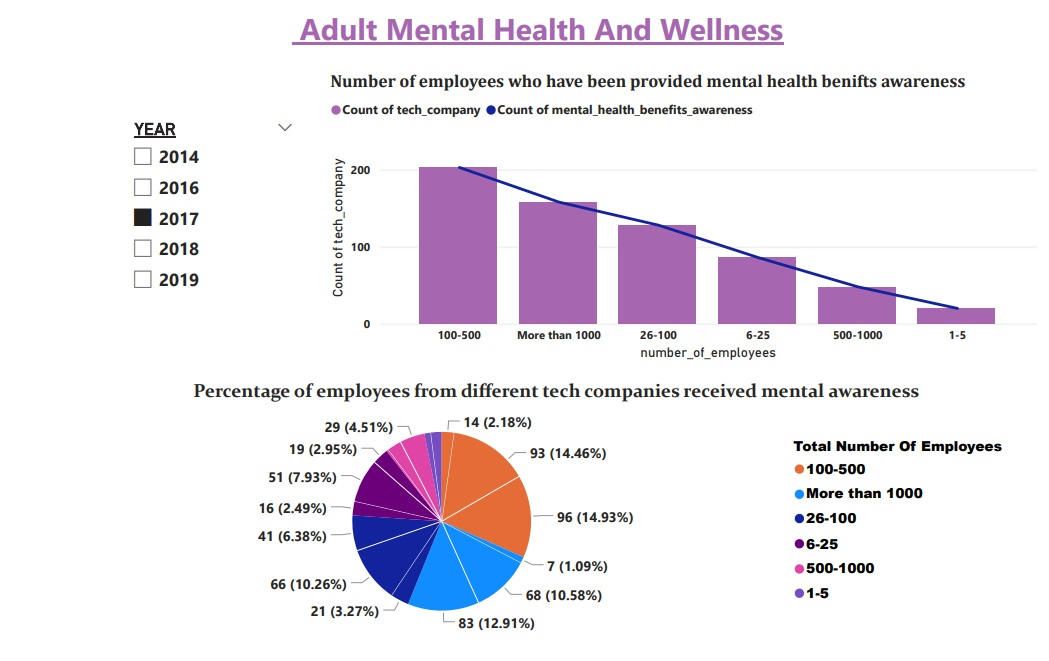

This screenshot's page, from the dashboard's own definition file:
{"tool":"powerbi","page":{"name":"Page 1","canvas":[1280,720],"ordinal":0},"visuals":[{"type":"group","id":"g1","title":"Group 2","box":[145.3,87.7,1024.4,609.1],"z":0},{"type":"group","id":"g2","title":"Group 1","box":[185,87.7,984.7,315.5],"z":0,"group":"g1"},{"type":"slicer","fields":{"Values":["Mental health in tech survey 2014-2019.year"]},"box":[185,134.7,194.7,224.9],"z":0,"group":"g2"},{"type":"textbox","box":[38.4,15.1,1155.8,52.1],"z":1000},{"type":"lineStackedColumnComboChart","title":"Number of employees who have been provided mental health benifts awareness","fields":{"Category":["Mental health in tech survey 2014-2019.number_of_employees"],"Y":["CountNonNull(Mental health in tech survey 2014-2019.tech_company)"],"Y2":["CountNonNull(Mental health in tech survey 2014-2019.mental_health_benefits_awareness)"]},"box":[403.3,87.7,766.4,315.5],"z":1000,"group":"g2"},{"type":"pieChart","title":"Percentage of employees from different tech companies received mental awareness","fields":{"Category":["Mental health in tech survey 2014-2019.number_of_employees"],"Y":["CountNonNull(Mental health in tech survey 2014-2019.tech_company)"],"Series":["Mental health in tech survey 2014-2019.mental_health_benefits_awareness"]},"box":[145.3,418.5,1010.5,278.3],"z":1000,"group":"g1"}]}

Visuals, with their boxes on the page's 1280x720 design canvas (x1, y1, x2, y2). These are canvas units, not pixel positions in the 1049x661 screenshot, which may show the page scaled, cropped or inside an application window:
"Group 2" group: locate(145, 88, 1170, 697)
"Group 1" group: locate(185, 88, 1170, 403)
slicer - Mental health in tech survey 2014-2019.year: locate(185, 135, 380, 360)
textbox: locate(38, 15, 1194, 67)
"Number of employees who have been provided mental health benifts awareness" lineStackedColumnComboChart: locate(403, 88, 1170, 403)
"Percentage of employees from different tech companies received mental awareness" pieChart: locate(145, 418, 1156, 697)
